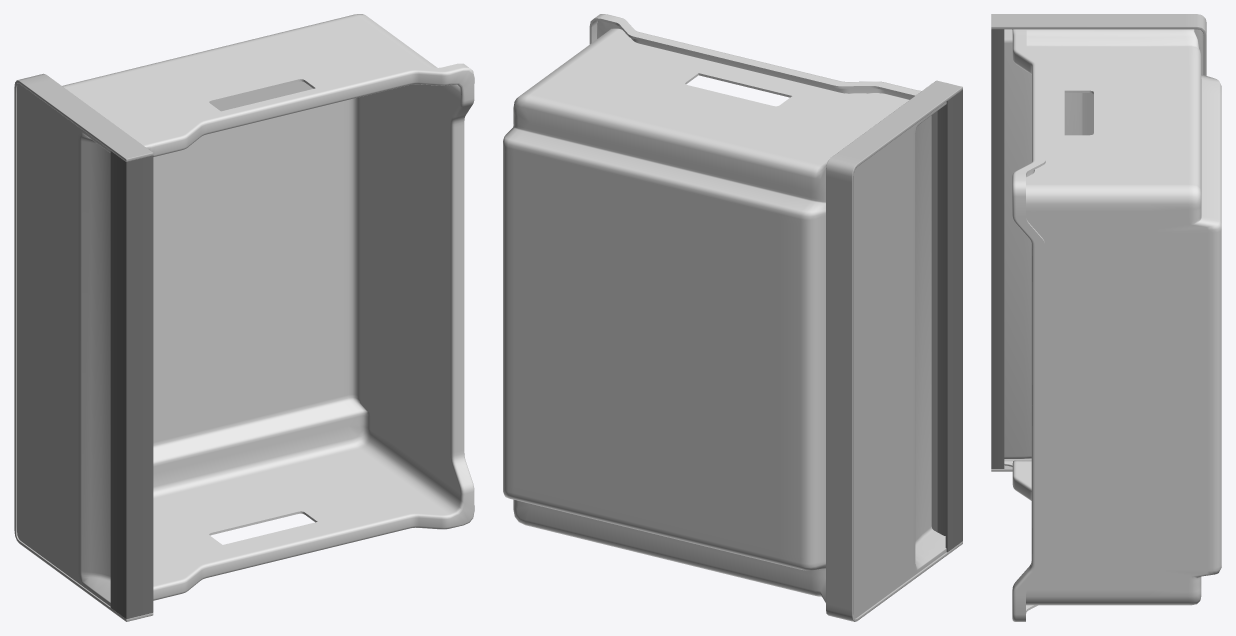
The model's file is SM_Fridge_Drawer_03.obj.
3 views of the same model, side by side, from view 1: azimuth 30°, elevation 25°; view 2: azimuth 150°, elevation 25°; view 3: azimuth 270°, elevation 25° (orthographic). The views are drawn at different scales.
Parts seen in each view (by area): view 1: SM_Fridge_Drawer_03; view 2: SM_Fridge_Drawer_03; view 3: SM_Fridge_Drawer_03.
Boxes of the visible parts, <box> form: SM_Fridge_Drawer_03: <box>14,14,474,621</box>; SM_Fridge_Drawer_03: <box>503,14,962,621</box>; SM_Fridge_Drawer_03: <box>991,14,1221,621</box>.
Bounding box in the file's own units: 0.333 × 0.409 × 0.192.
Materials: 3 (2 with a texture image).
